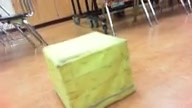cube: (42, 31, 137, 108)
